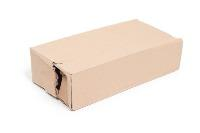damaged package: (50, 57, 65, 100)
undamaged: (26, 15, 184, 113)
